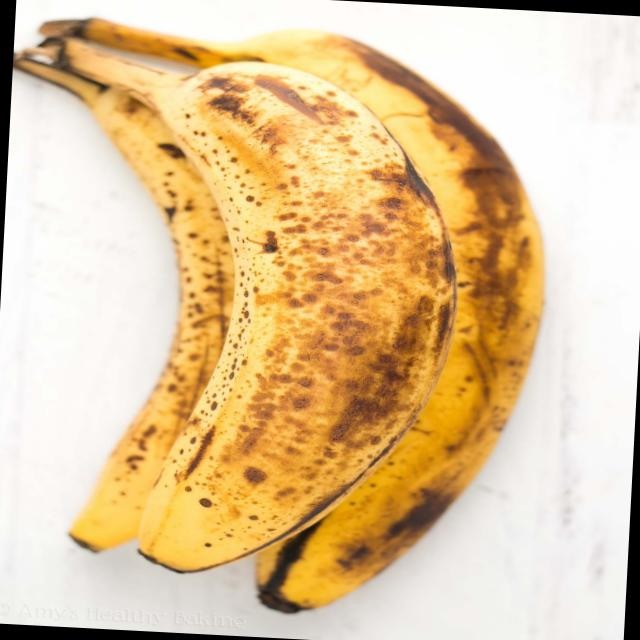banana: (179, 35, 536, 620), (137, 65, 466, 609), (52, 81, 322, 564)
